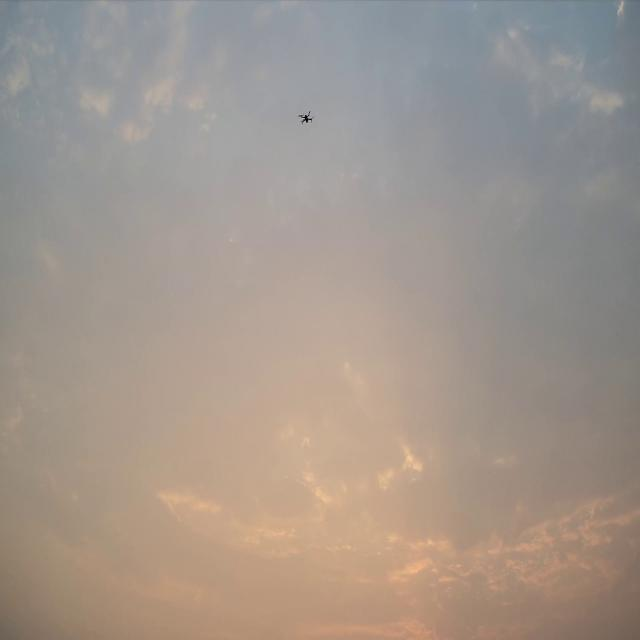drone: (298, 110, 314, 124)
